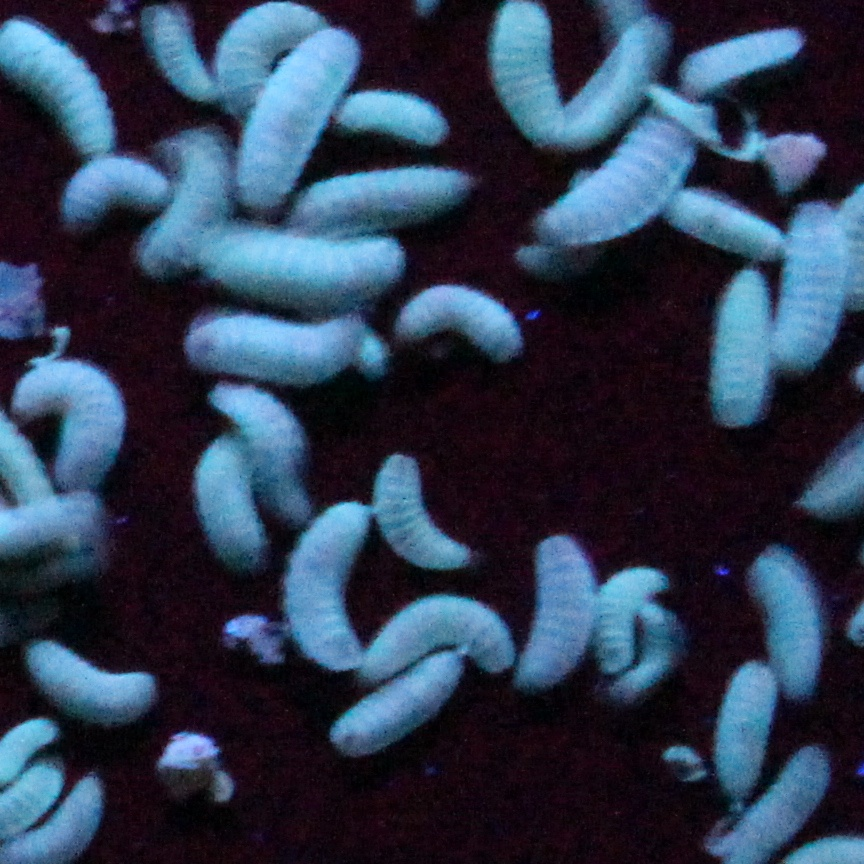larve: (568, 123, 690, 247), (249, 55, 341, 203), (751, 550, 832, 684), (24, 28, 110, 152), (42, 644, 164, 731), (217, 228, 383, 291), (227, 377, 312, 499), (32, 360, 127, 469), (219, 3, 307, 111), (297, 506, 354, 664), (378, 460, 458, 564), (373, 613, 490, 684), (407, 289, 527, 357), (527, 550, 588, 679), (154, 147, 219, 267), (305, 172, 473, 218), (190, 318, 351, 364), (690, 16, 797, 84), (344, 674, 449, 738), (790, 213, 832, 369), (210, 450, 263, 560), (695, 189, 780, 252), (724, 284, 763, 418), (729, 672, 771, 794), (63, 167, 158, 213), (605, 569, 649, 667), (358, 96, 446, 135), (163, 13, 205, 94), (649, 601, 673, 679)
